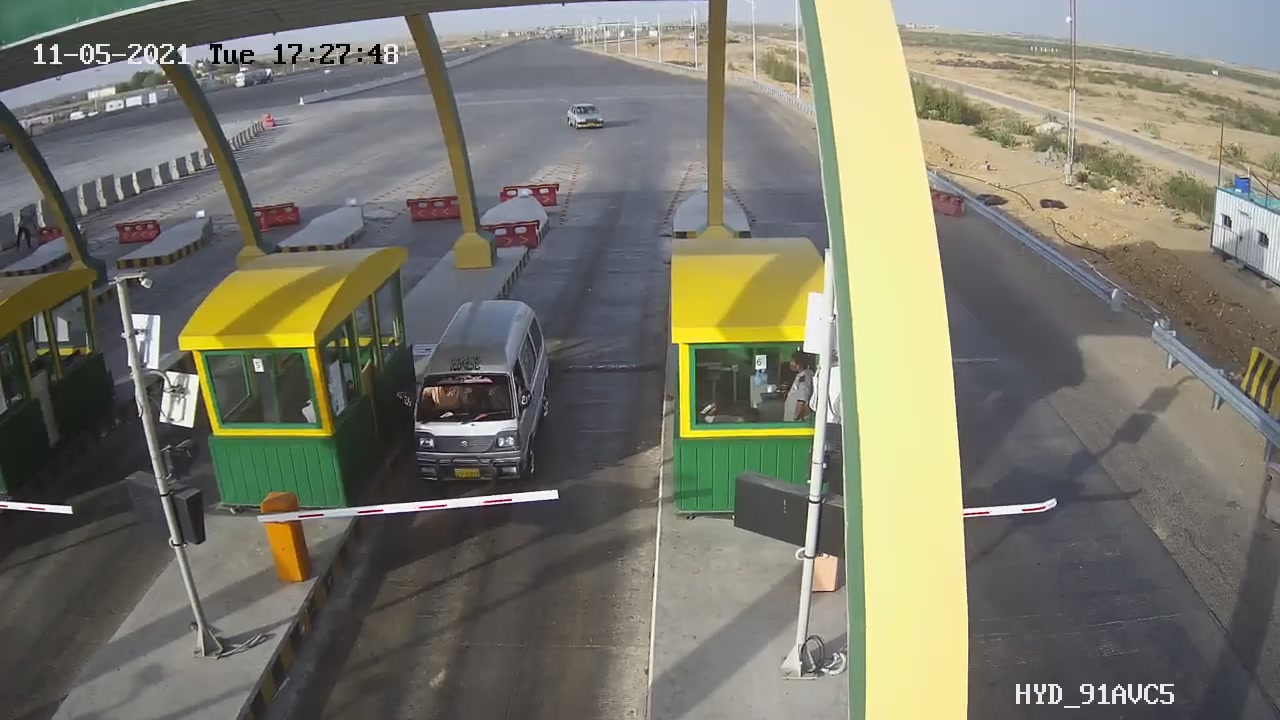F1: (382, 279, 591, 514)
